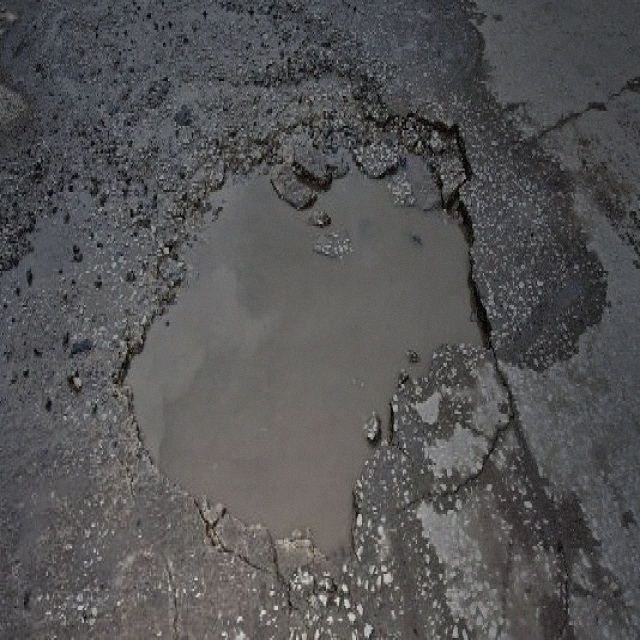pothole: (111, 107, 495, 568)
